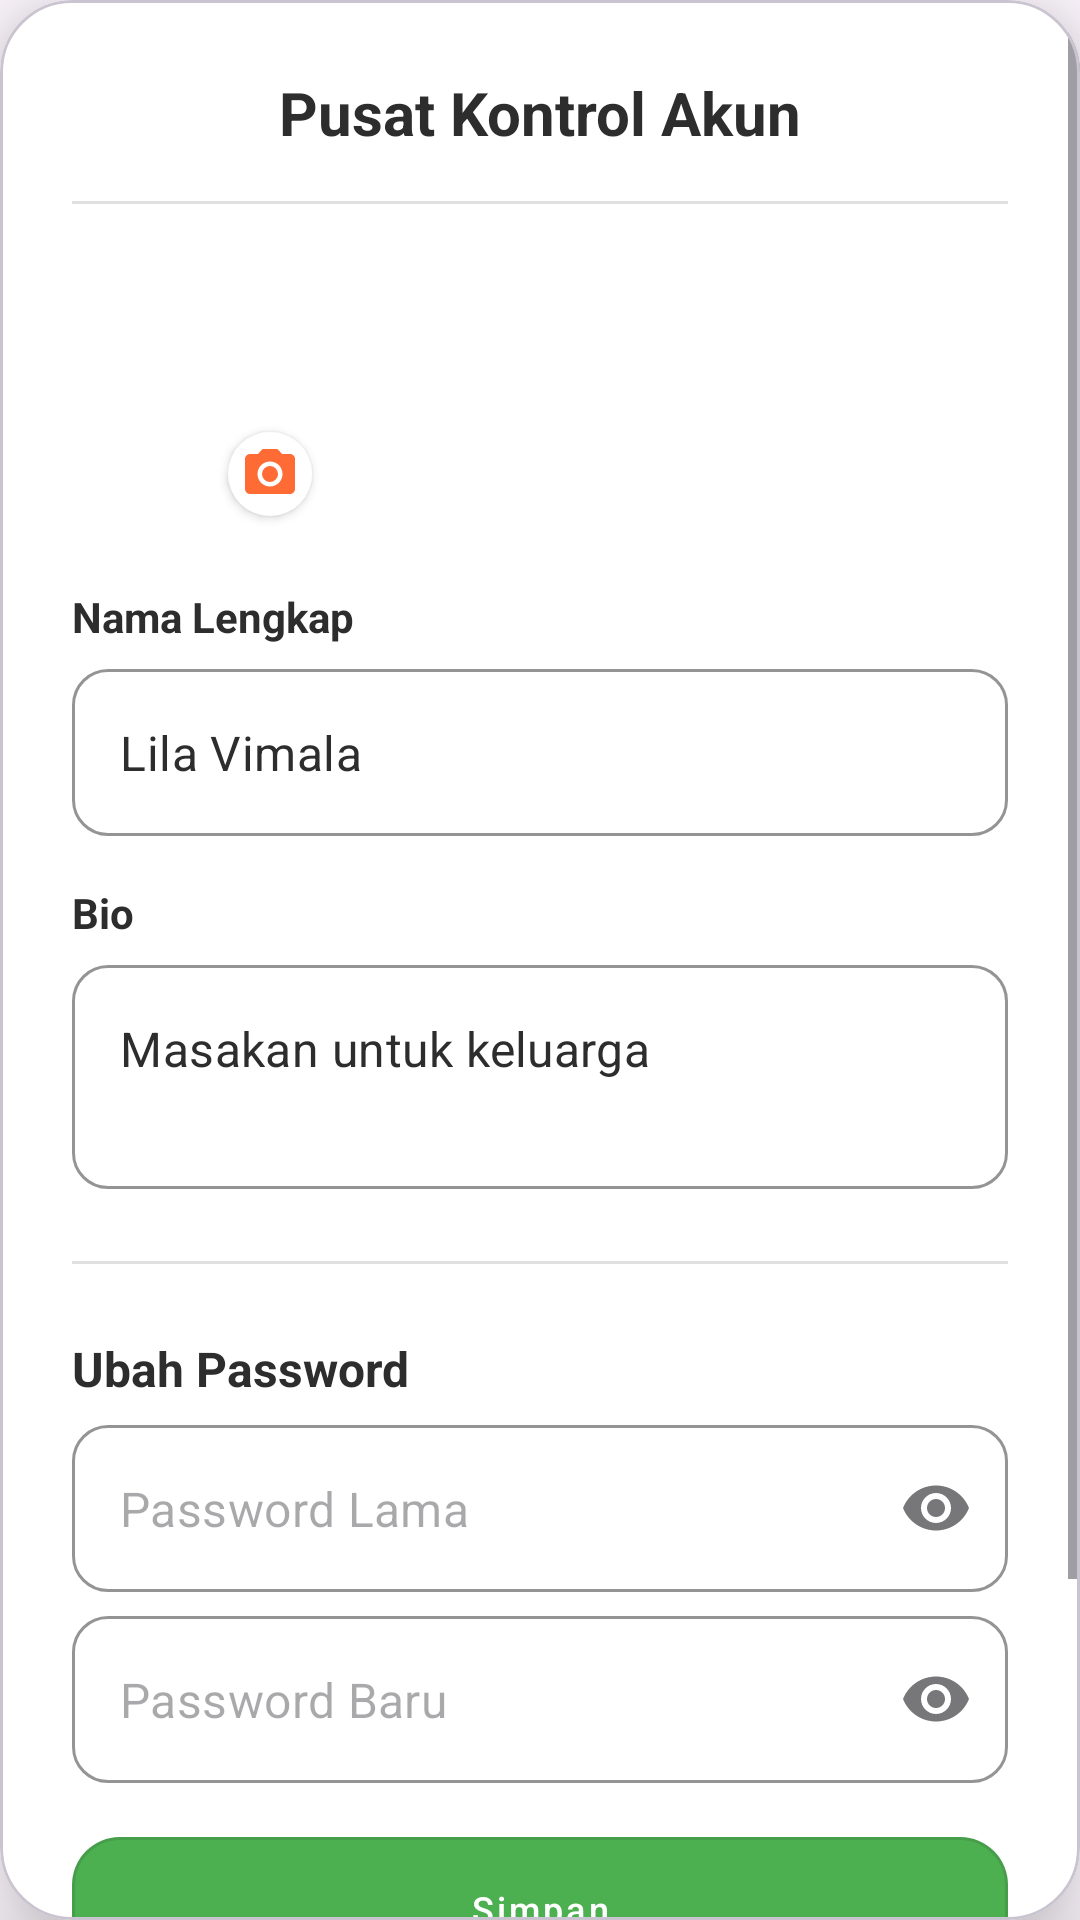

Locate icon controls on the screen. Image size 1080 x 1920, boxes as (x1, y1, x2, y2).
camera: (228, 449, 295, 516)
